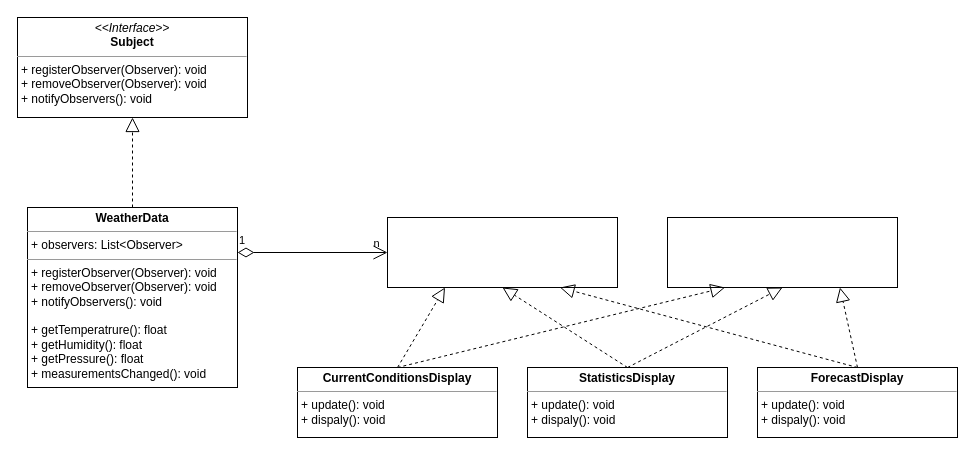
This 975x455 diagram has some shape labels left out. Here are the shapes that lost their labels. From the top down, the centre of each, then its label:
pixel 502 252: <<Interface>> Observer + update(): void
pixel 782 252: <<Interface>> DisplayElement + display(): void
